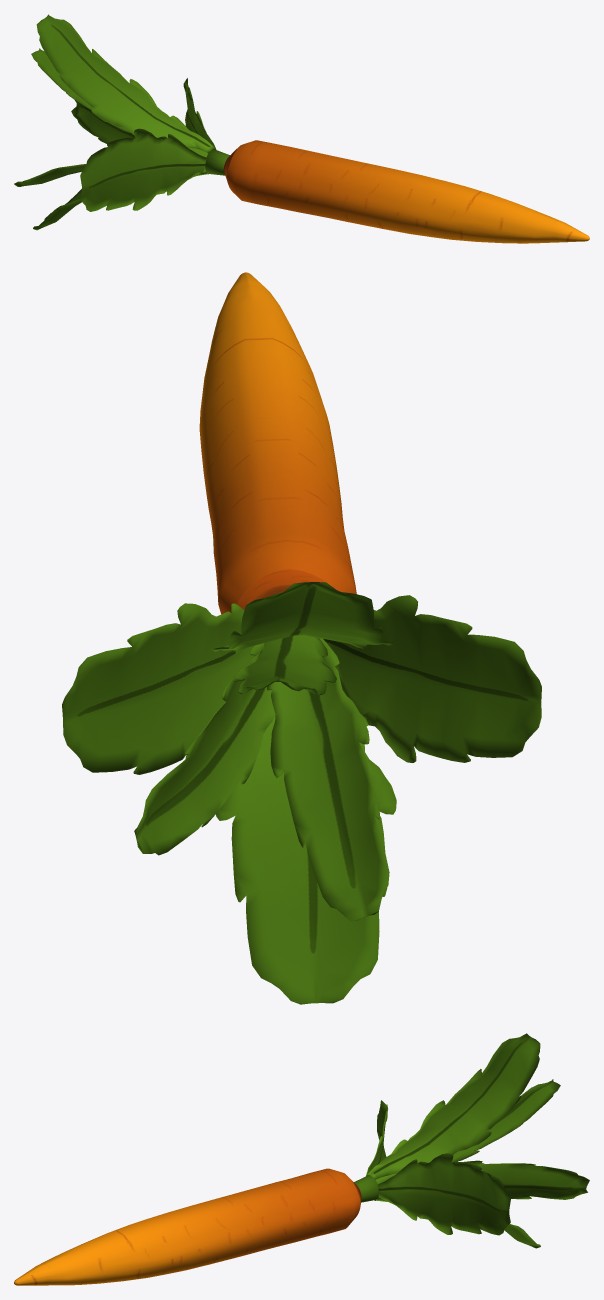
File: carrot_dynamic.obj
The picture shows the model from 3 angles, top to bottom: view 1: azimuth 30°, elevation 25°; view 2: azimuth 150°, elevation 25°; view 3: azimuth 270°, elevation 25°; orthographic projection. The views are drawn at different scales.
Size of the model in its own units: 0.4894 by 0.2977 by 0.7352.
3 materials, 3 textured.
